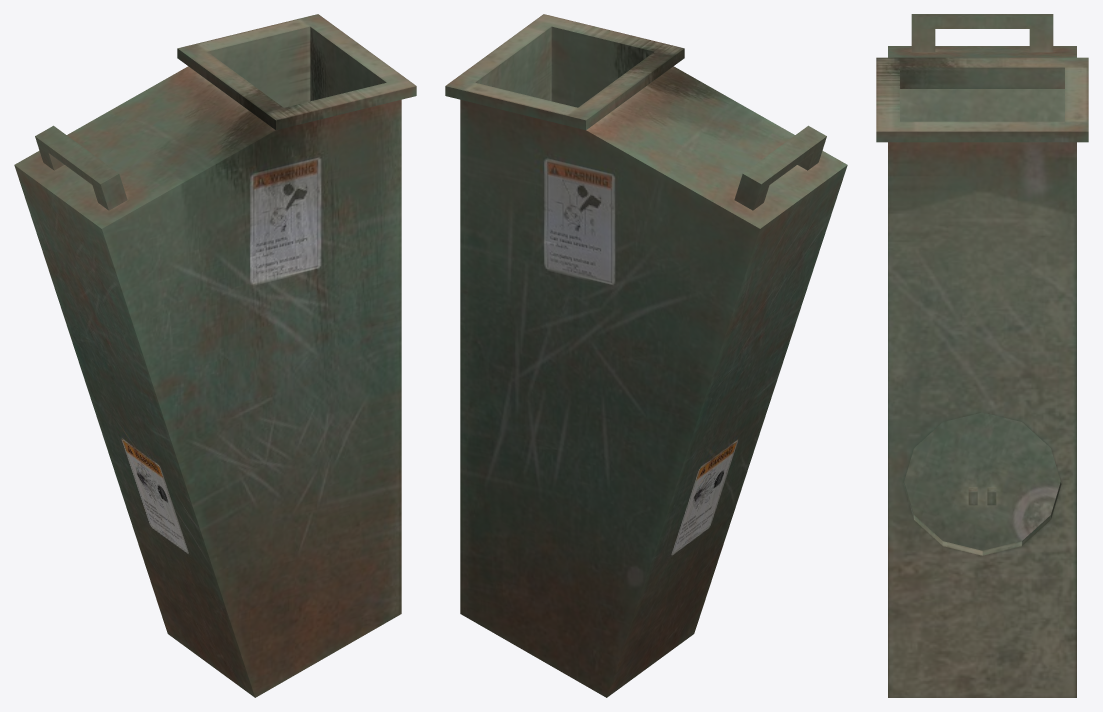
File: PelletMill_DumpChute.gltf
3 views of the same model, side by side, from view 1: azimuth 30°, elevation 25°; view 2: azimuth 150°, elevation 25°; view 3: azimuth 270°, elevation 25° (orthographic). The views are drawn at different scales.
Parts seen in each view (by area): view 1: Hopper001; view 2: Hopper001; view 3: Hopper001.
Boxes of the visible parts, <box> form: Hopper001: <box>14,14,416,697</box>; Hopper001: <box>445,14,847,697</box>; Hopper001: <box>876,14,1088,697</box>.
Bounding box in the file's own units: 0.3717 × 0.6632 × 0.2048.
Materials: 1 (1 with a texture image).
